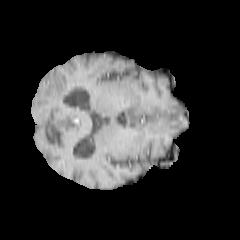glioma: (42, 70, 71, 103)
